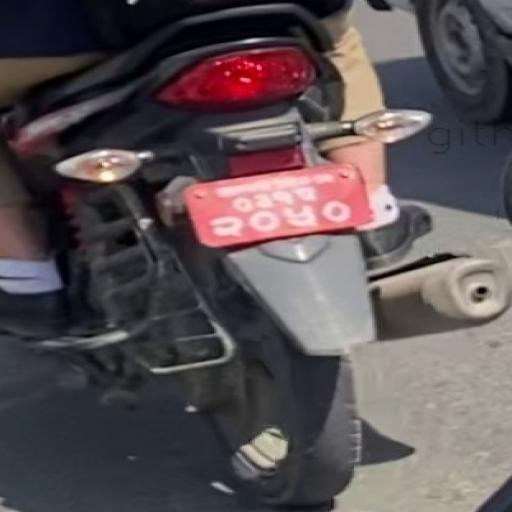license_plate: (179, 160, 380, 252)
